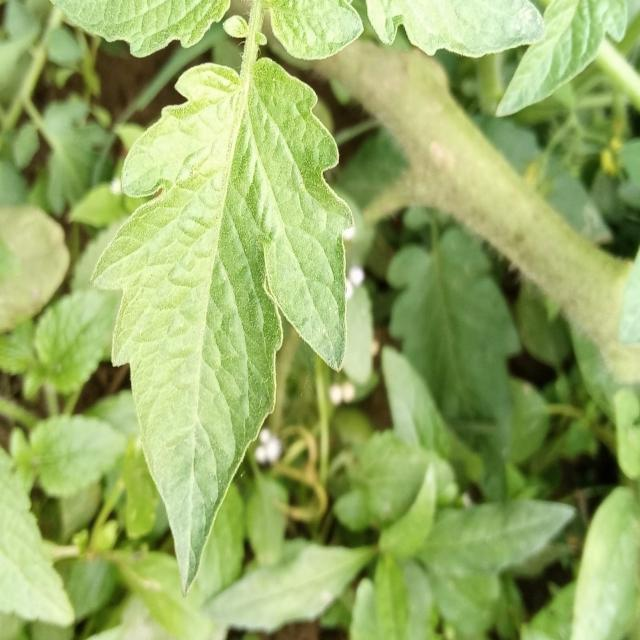Healthy: (38, 0, 429, 593)
